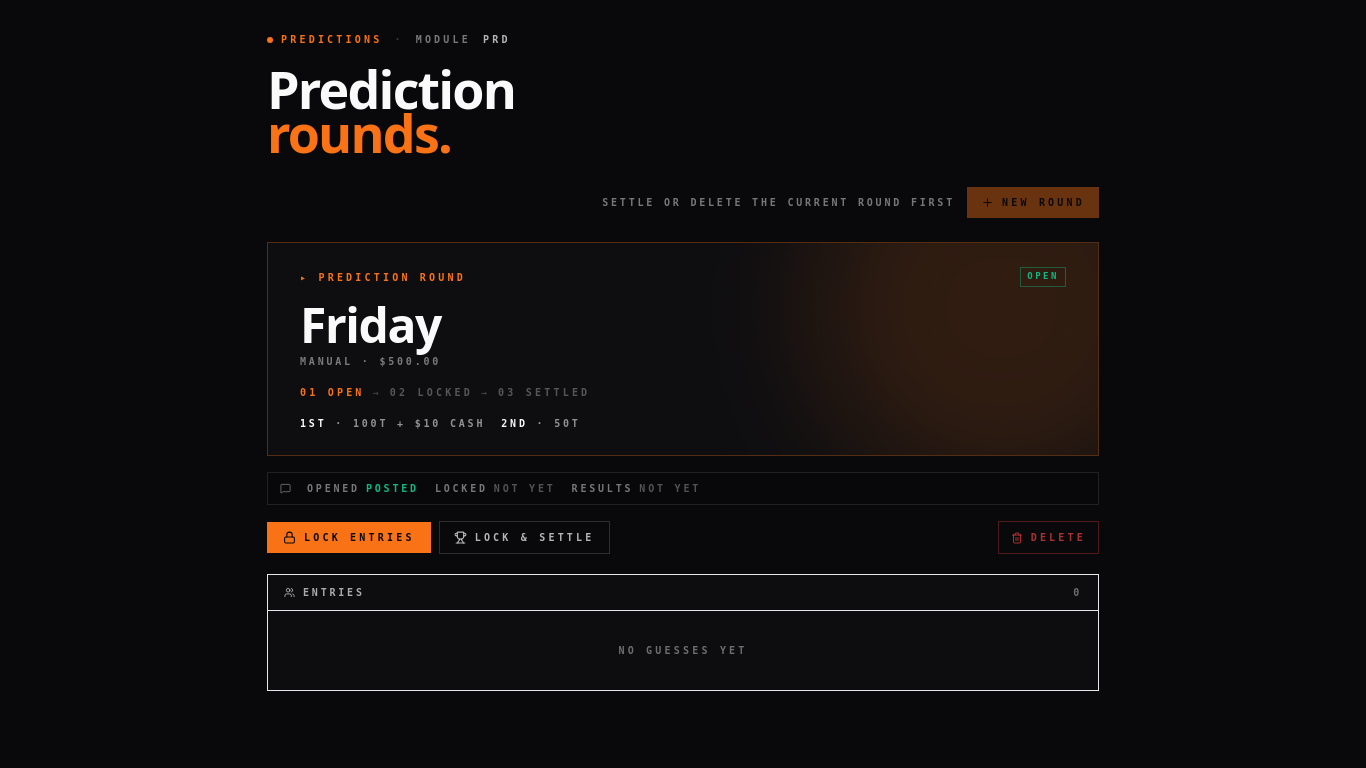
Test: Lock & settle locks the round, then opens the settle window
The width and height of the screenshot is (1366, 768).
Click the button "Lock & settle" at x=524, y=538, box [439,521,610,554]
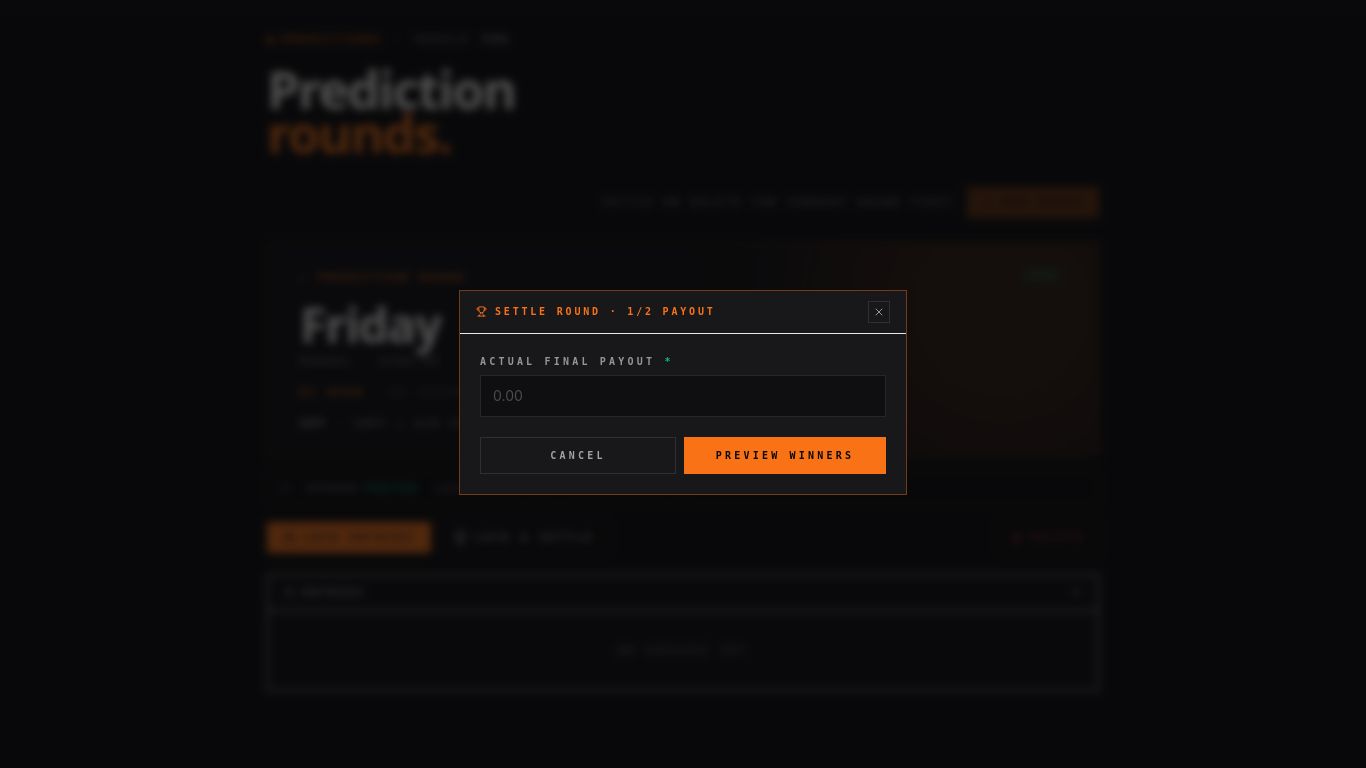
Expected: the number field labelled "Actual final payout *" is shown, [480,374,886,416]
